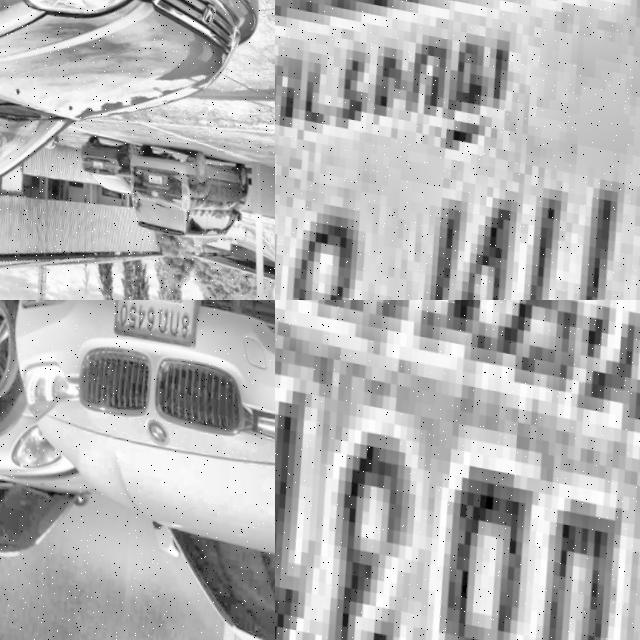license-plate: (275, 300, 640, 640), (275, 0, 640, 300), (106, 300, 202, 352)
